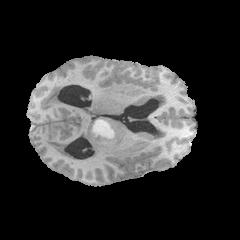glioma: (86, 116, 122, 150)
